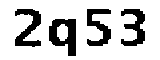2: (13, 8, 44, 51)
3: (119, 2, 149, 54)
5: (83, 5, 113, 48)
q: (47, 15, 79, 60)
